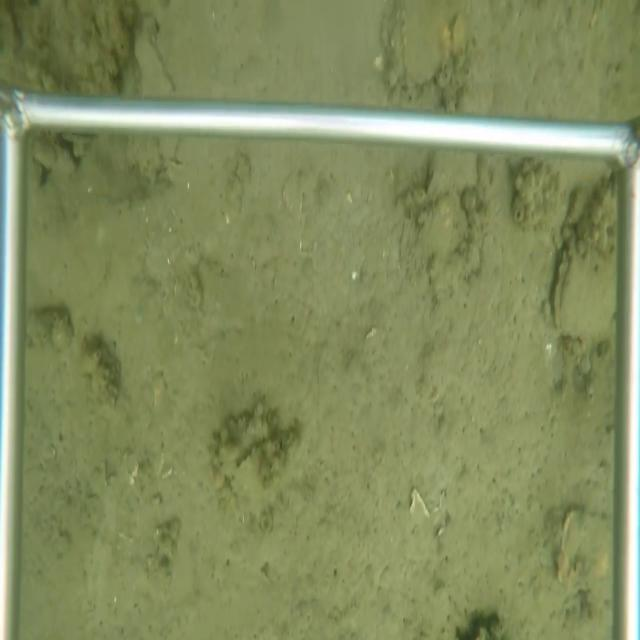Oyster-Closed: (548, 167, 618, 343)
Oyster-Indeterminate: (376, 2, 452, 99), (225, 435, 290, 507), (415, 188, 471, 266), (424, 152, 481, 198)
